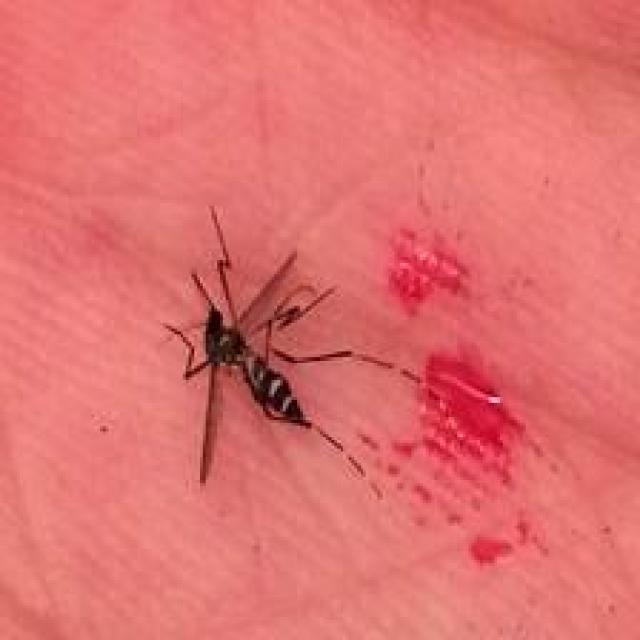Aedes albopictus: (160, 204, 377, 487)
